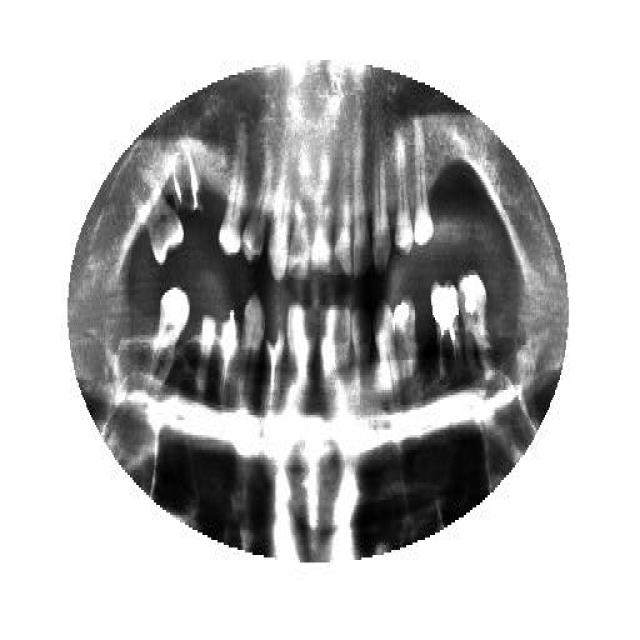Cavity: (171, 150, 204, 230)
Fillings: (458, 272, 497, 378)
Implant: (430, 277, 462, 385)
